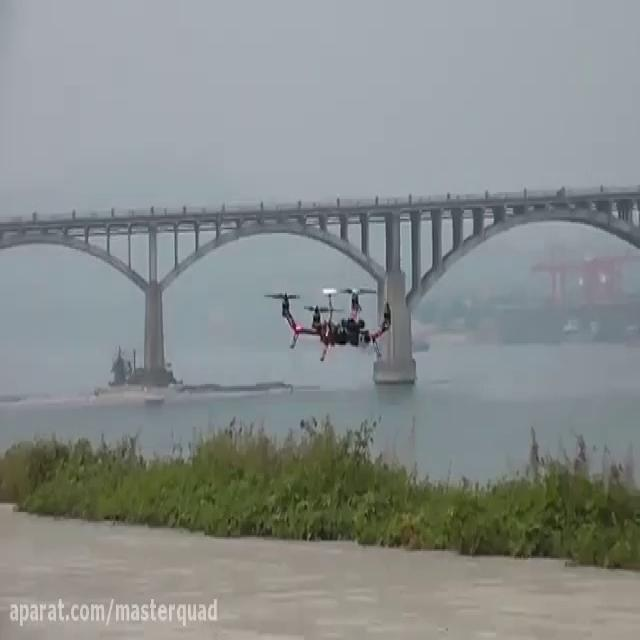drone: (260, 281, 397, 364)
